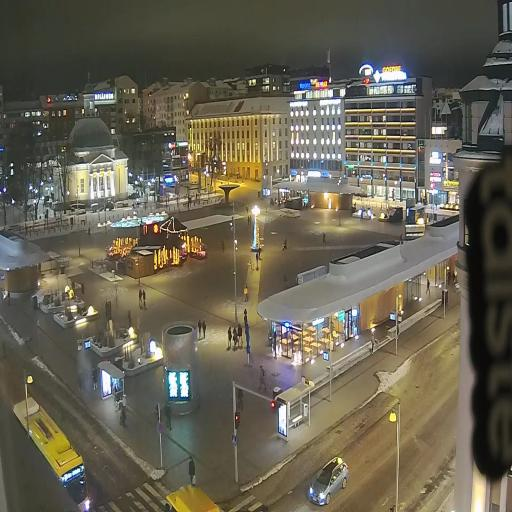Bus: (13, 384, 91, 512), (165, 485, 221, 512)
